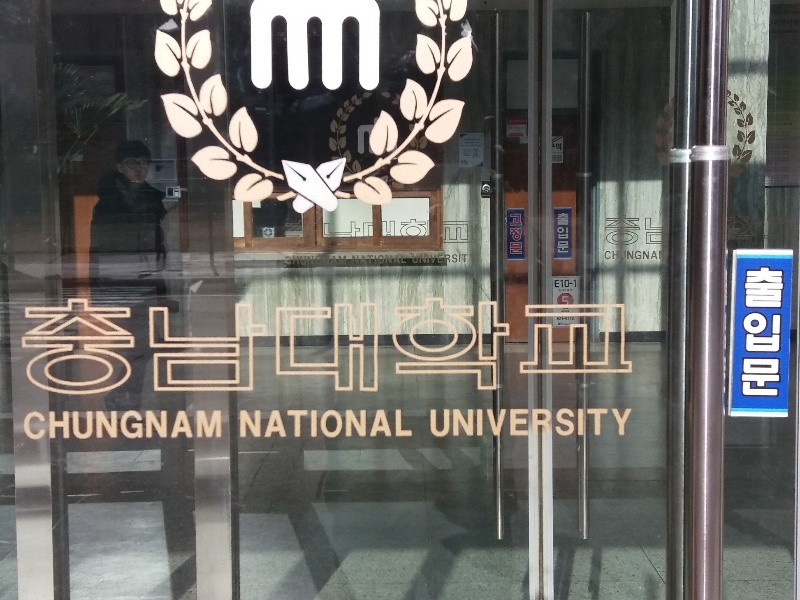text: (769, 266, 785, 397), (753, 266, 768, 397), (33, 294, 48, 400), (49, 294, 64, 400), (65, 294, 80, 400), (81, 294, 96, 400), (97, 294, 112, 400), (113, 294, 128, 400), (129, 294, 144, 400), (145, 294, 160, 400), (161, 294, 176, 400), (177, 294, 192, 400), (193, 294, 208, 400), (209, 294, 224, 400), (225, 294, 240, 400), (241, 294, 256, 400), (257, 294, 272, 400), (273, 294, 288, 400), (289, 294, 304, 400), (305, 294, 320, 400), (321, 294, 336, 400), (337, 294, 352, 400), (353, 294, 368, 400), (369, 294, 384, 400), (385, 294, 400, 400), (401, 294, 416, 400), (417, 294, 432, 400), (433, 294, 448, 400), (449, 294, 464, 400), (465, 294, 480, 400), (481, 294, 496, 400), (497, 294, 512, 400), (513, 294, 528, 400), (529, 294, 544, 400), (545, 294, 560, 400), (561, 294, 576, 400), (577, 294, 592, 400), (593, 294, 608, 400), (609, 294, 624, 400), (23, 294, 32, 400), (746, 266, 752, 397), (625, 294, 632, 400), (289, 219, 304, 251), (305, 219, 320, 251), (321, 219, 336, 251), (337, 219, 352, 251), (353, 219, 368, 251), (369, 219, 384, 251), (385, 219, 400, 251), (401, 219, 416, 251), (417, 219, 432, 251), (433, 219, 448, 251), (449, 219, 464, 251), (737, 216, 752, 247), (609, 216, 624, 247), (625, 216, 640, 247), (241, 410, 256, 440), (257, 410, 272, 440), (273, 410, 288, 440), (289, 410, 304, 440), (305, 410, 320, 440), (321, 410, 336, 440), (337, 410, 352, 440), (353, 410, 368, 440), (369, 410, 384, 440), (385, 410, 400, 440), (33, 412, 48, 441), (49, 412, 64, 441), (65, 412, 80, 441), (81, 412, 96, 441), (97, 412, 112, 441), (113, 412, 128, 441), (129, 412, 144, 441), (145, 412, 160, 441), (161, 412, 176, 441), (177, 412, 192, 441), (193, 412, 208, 441), (433, 410, 448, 438), (449, 410, 464, 438), (465, 410, 480, 438), (481, 410, 496, 438), (497, 410, 512, 438), (513, 410, 528, 438), (529, 410, 544, 438), (545, 410, 560, 438), (561, 410, 576, 438), (577, 410, 592, 438), (593, 410, 608, 438), (609, 410, 624, 438), (209, 412, 222, 441), (513, 214, 522, 255), (401, 410, 413, 440), (561, 213, 569, 253), (645, 218, 656, 245), (465, 219, 474, 251), (23, 412, 32, 441), (728, 216, 736, 247), (625, 410, 633, 438), (753, 216, 758, 247), (353, 255, 368, 265), (369, 255, 384, 265), (385, 255, 400, 265), (417, 254, 432, 264), (433, 254, 448, 264), (449, 254, 464, 264), (641, 251, 657, 260), (657, 218, 662, 245), (609, 251, 624, 260), (625, 251, 640, 260), (289, 256, 304, 265), (305, 256, 320, 265), (321, 256, 336, 265), (557, 213, 560, 253), (561, 280, 576, 288), (563, 296, 576, 305), (659, 251, 672, 259), (337, 256, 348, 265), (285, 219, 288, 251), (510, 214, 512, 255), (472, 149, 480, 159), (401, 255, 407, 265), (553, 155, 560, 162), (465, 149, 471, 157), (465, 142, 480, 145), (562, 310, 576, 313), (562, 317, 576, 320), (552, 143, 560, 148), (555, 280, 560, 288), (412, 254, 416, 264), (465, 254, 469, 264), (513, 120, 524, 123), (513, 126, 524, 129), (561, 289, 572, 292), (607, 216, 608, 247), (465, 139, 480, 141), (465, 145, 480, 147), (513, 133, 523, 136), (556, 144, 560, 151), (431, 410, 432, 438), (605, 251, 608, 260), (285, 256, 288, 265), (563, 324, 576, 326), (508, 126, 512, 129), (509, 120, 512, 123), (557, 317, 560, 320), (460, 145, 464, 147), (463, 149, 464, 157), (561, 144, 562, 151), (561, 155, 562, 162), (481, 145, 483, 147), (559, 289, 560, 292), (559, 323, 560, 326), (561, 323, 562, 326), (511, 133, 512, 136), (463, 139, 464, 141)
